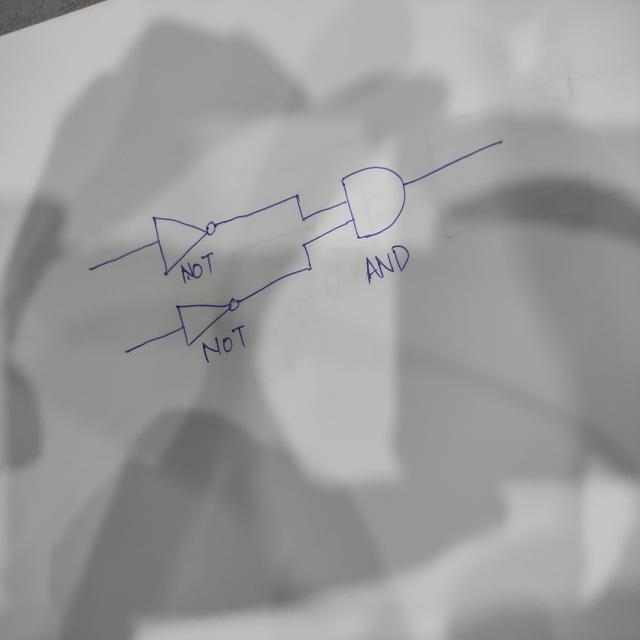junction: (303, 260, 315, 274), (290, 189, 300, 203), (298, 213, 308, 224), (300, 240, 309, 251)
terminal: (81, 258, 106, 276), (118, 343, 137, 358), (492, 134, 506, 150)
text: (364, 242, 411, 286), (201, 323, 247, 364), (179, 250, 215, 284)
